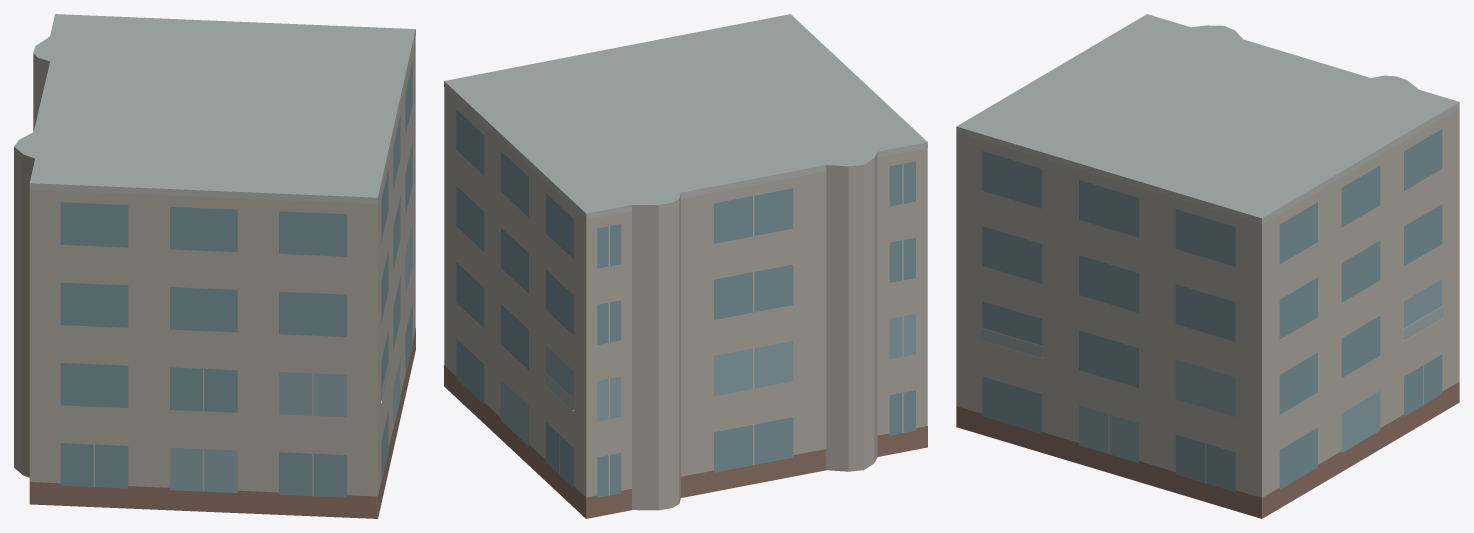
File: survey-upis-32779239.glb
3 renders of one model, left to right at view 1: azimuth 30°, elevation 25°; view 2: azimuth 150°, elevation 25°; view 3: azimuth 270°, elevation 25°, orthographic. The views are drawn at different scales.
Visible parts, largest first — view 1: survey-upis-32779239.tmp; view 2: survey-upis-32779239.tmp; view 3: survey-upis-32779239.tmp.
Part boxes in pixels (box(x1,y1,x2,y2)): survey-upis-32779239.tmp: box(14, 14, 415, 518); survey-upis-32779239.tmp: box(444, 14, 927, 518); survey-upis-32779239.tmp: box(956, 14, 1459, 518).
Bounding box in the file's own units: 17.8 × 12.2 × 18.52.
